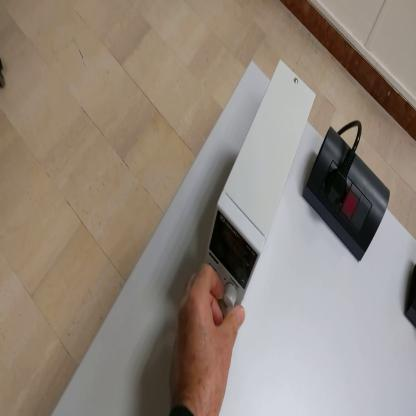hand: (170, 261, 245, 416)
power supply: (205, 63, 317, 320)
socket: (302, 128, 396, 260), (406, 255, 416, 331)
